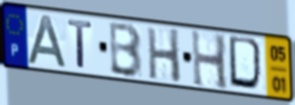A: (26, 13, 70, 70)
B: (109, 20, 145, 79)
D: (227, 34, 267, 94)
H: (190, 28, 231, 93), (145, 26, 183, 86)
T: (67, 18, 95, 71)
